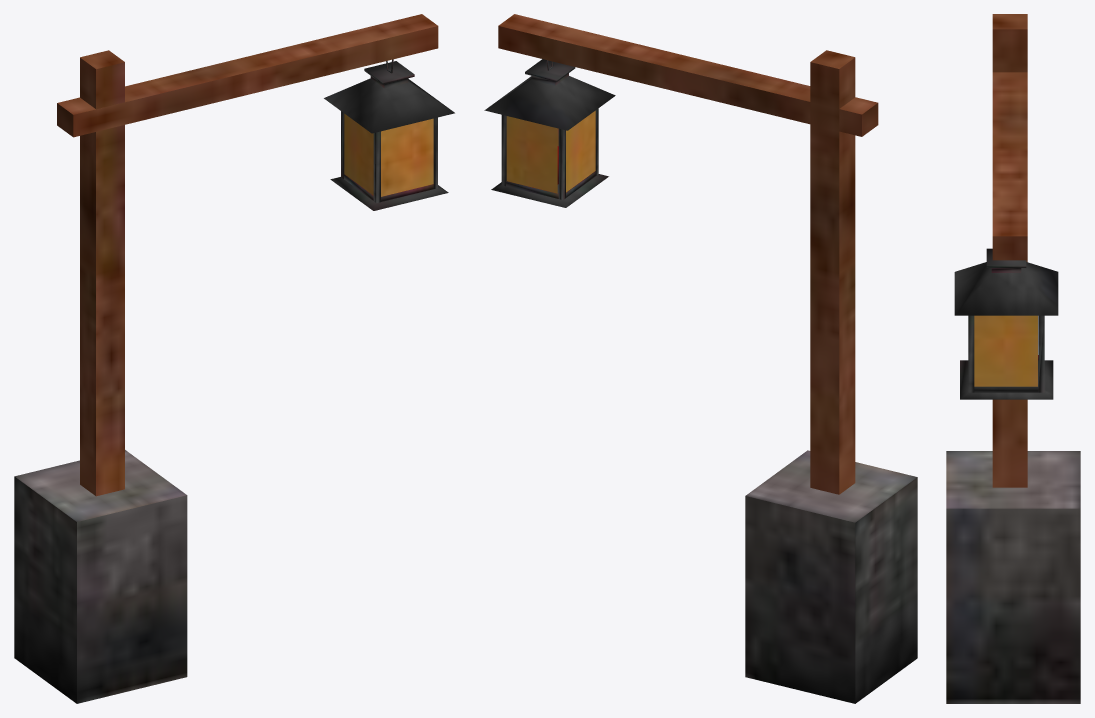
The model's file is light poles.fbx.
3 views of the same model, side by side, from view 1: azimuth 30°, elevation 25°; view 2: azimuth 150°, elevation 25°; view 3: azimuth 270°, elevation 25° (orthographic). The views are drawn at different scales.
Parts seen in each view (by area): view 1: light poles; view 2: light poles; view 3: light poles.
Boxes of the visible parts, left/top/right/bottom form: light poles: left=14, top=14, right=454, bottom=703; light poles: left=484, top=14, right=917, bottom=703; light poles: left=946, top=14, right=1080, bottom=703.
Size of the model in its own units: 431 by 656 by 122.
